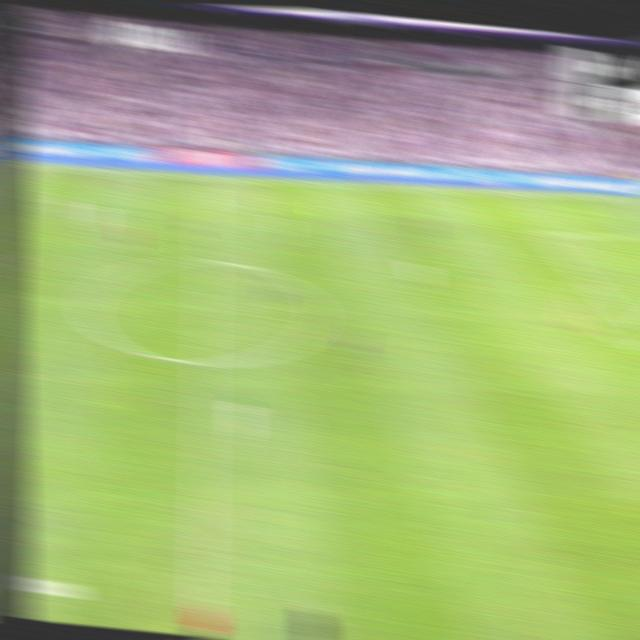bigarea_top_inner: (531, 223, 552, 241)
corner: (614, 192, 637, 203)
halfcircle_bottom: (191, 346, 219, 375)
halfcircle_top: (192, 246, 221, 274)
midline_top_intersection: (197, 168, 219, 186)
top_arc_area_intersection: (578, 272, 602, 290)
